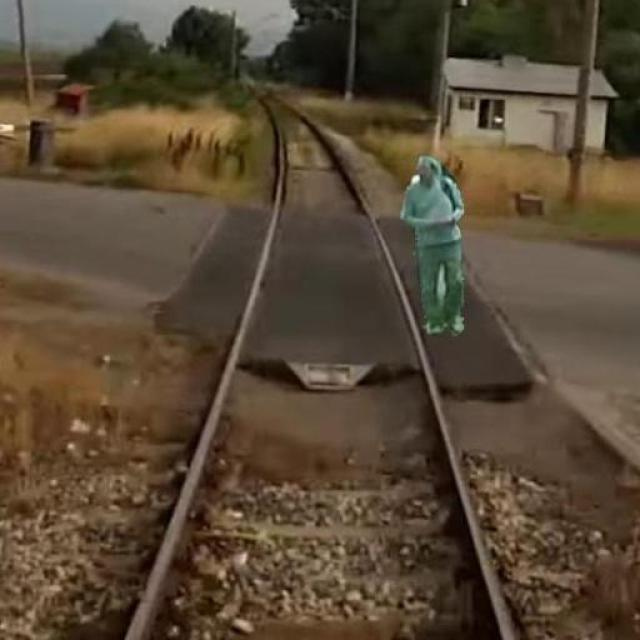people: (395, 151, 482, 342)
